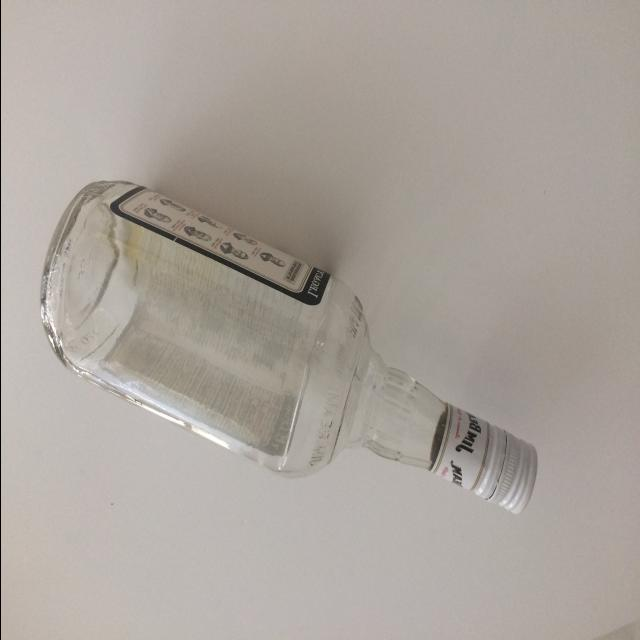glass: (36, 179, 539, 513)
